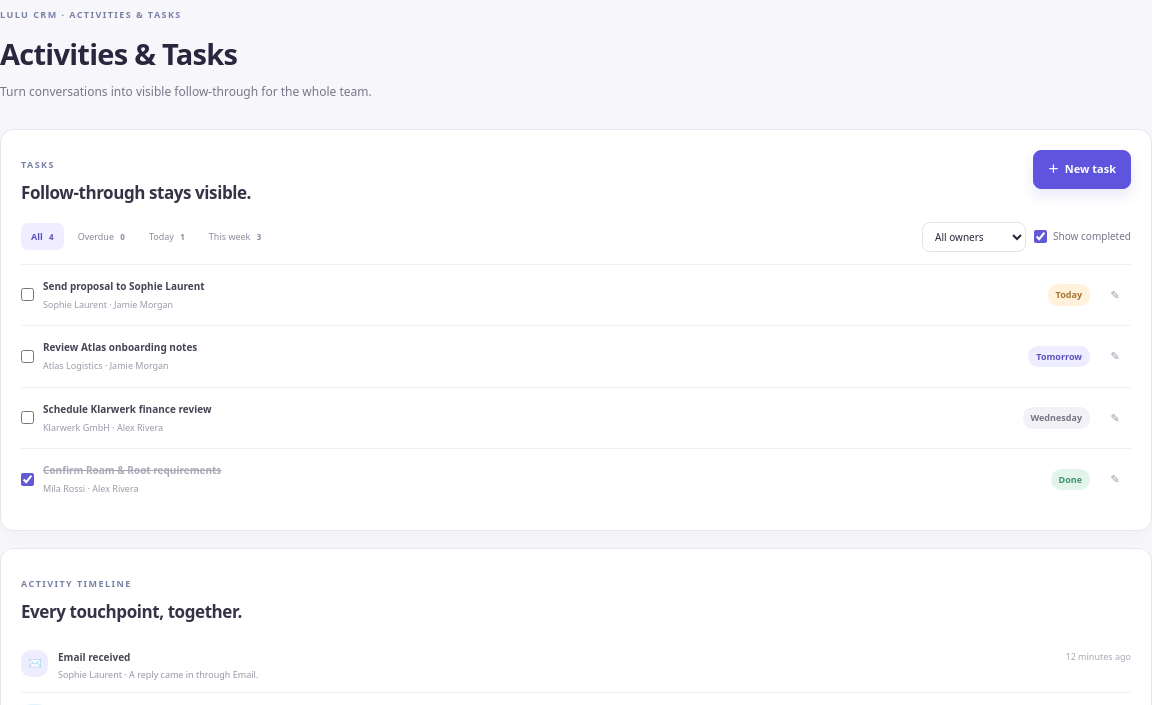
Test: Activities & Tasks page › puts the task back and shows an error when the API refuses
Expected: the text "Send proposal to Sophie Laurent" is shown, [43,278,205,292]
Expected: the text "Email received" is shown, [58,650,130,664]
Click the checkbox labelled "Review Atlas onboarding notes Atlas Logistics · Jamie Morgan". click: [28, 356]
box: [21,350,34,363]
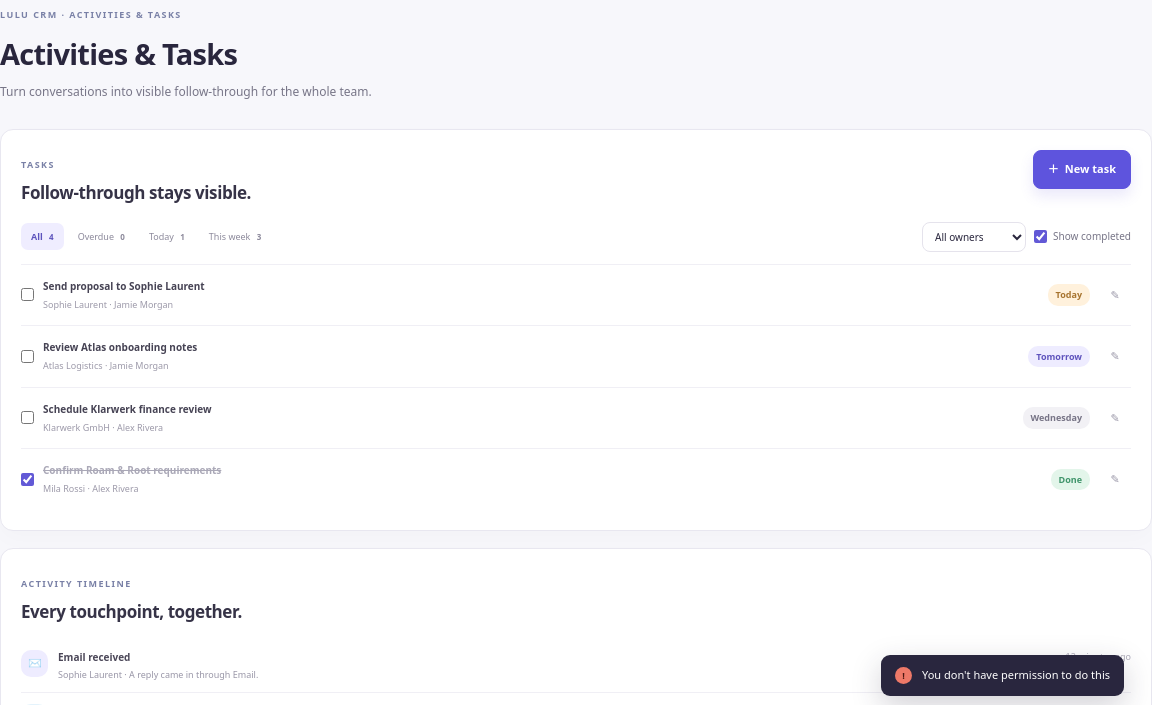
Expected: the text "Tomorrow" is shown, [1028,346,1090,367]
Now the text "You don't have permission to do this" is shown, box [922,667,1110,682]
